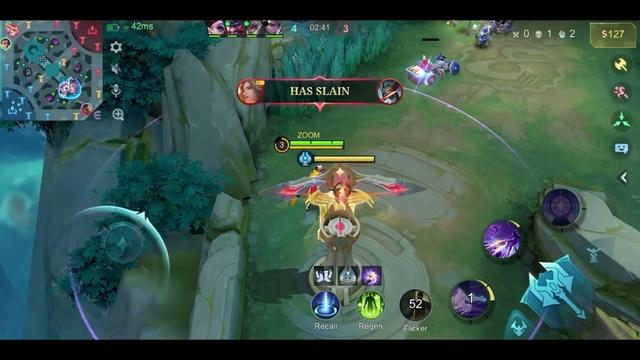bush: (202, 11, 563, 33)
hp_self: (290, 142, 344, 146)
minion_ally: (212, 26, 634, 86)
minion_enemy: (248, 8, 640, 42), (249, 8, 640, 31)
turret_ally: (172, 79, 500, 249)
